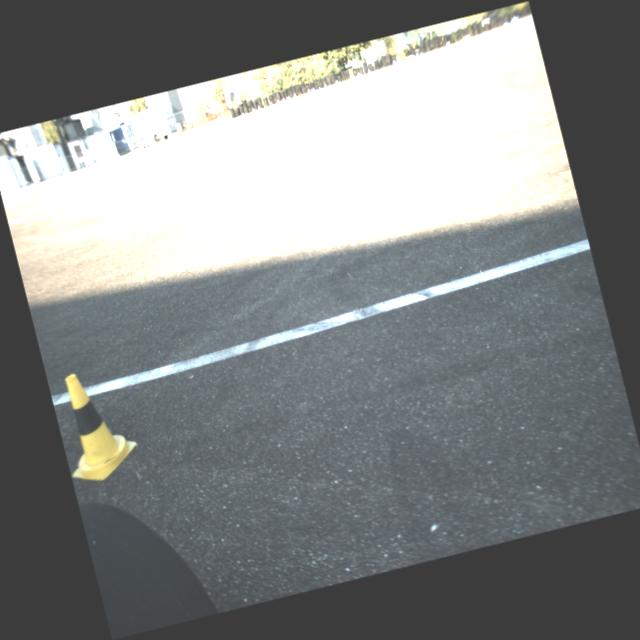yellow_cone: (47, 362, 143, 487)
